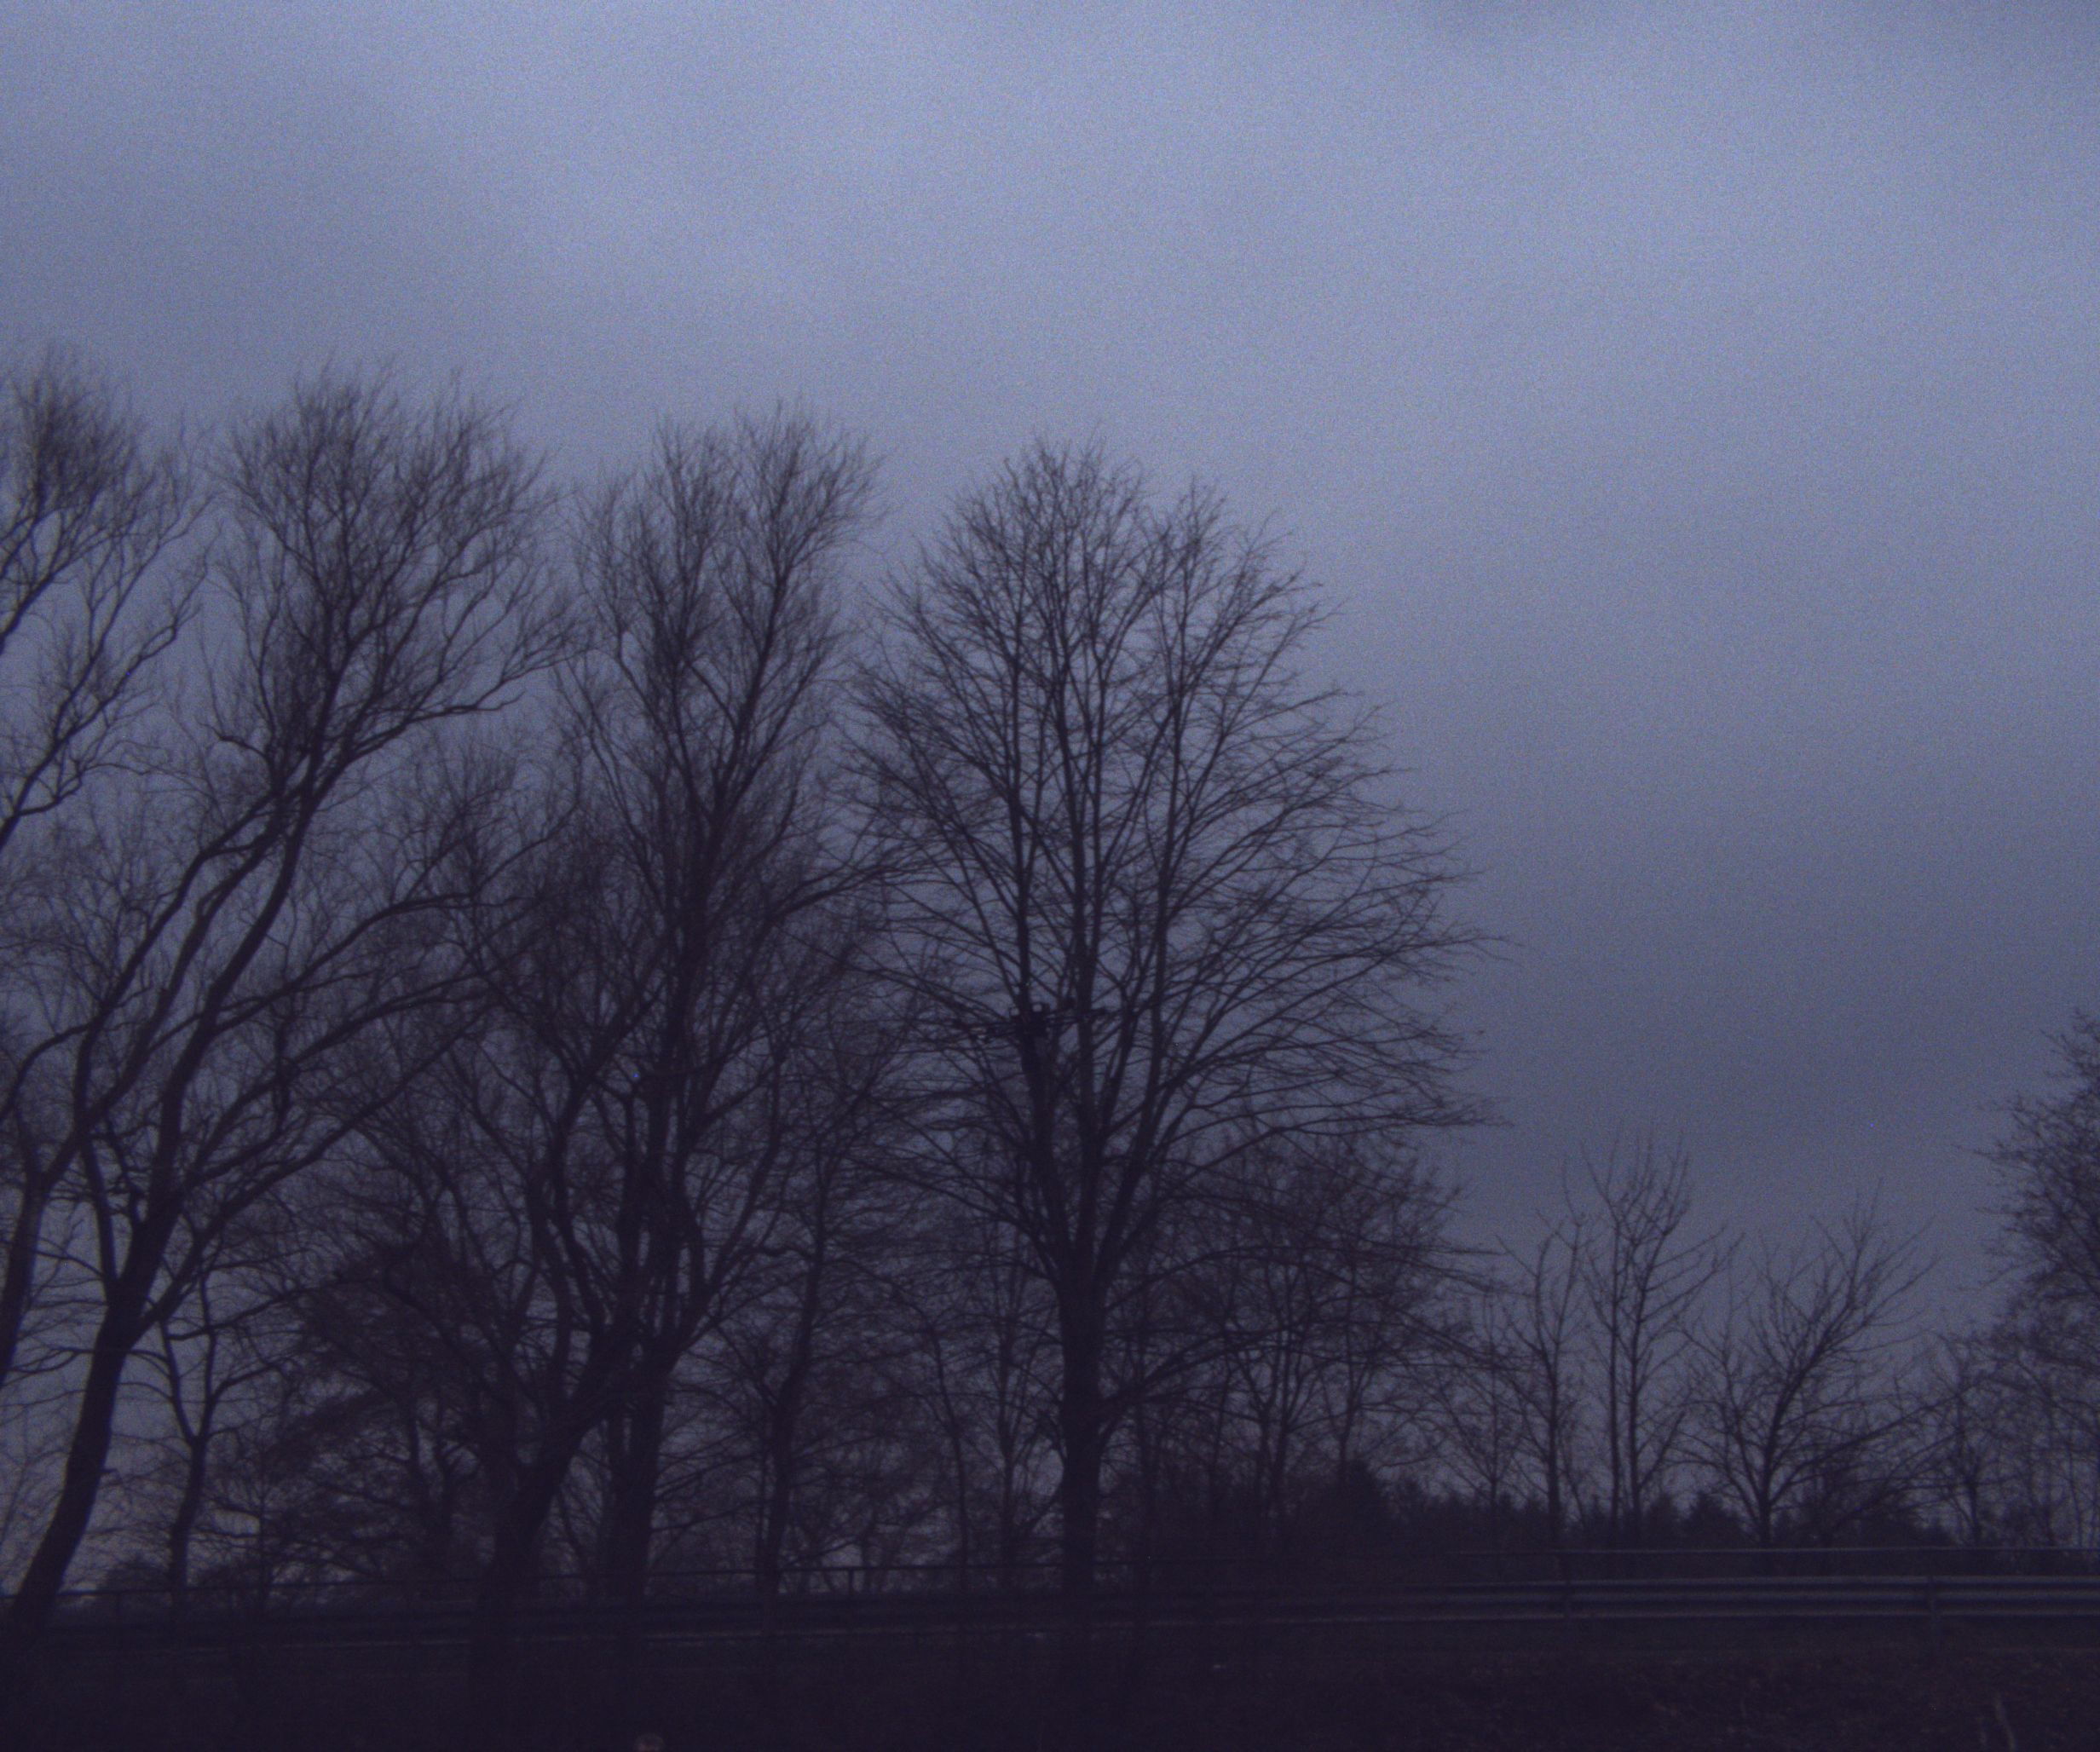Drohne: (947, 968, 1120, 1083)
